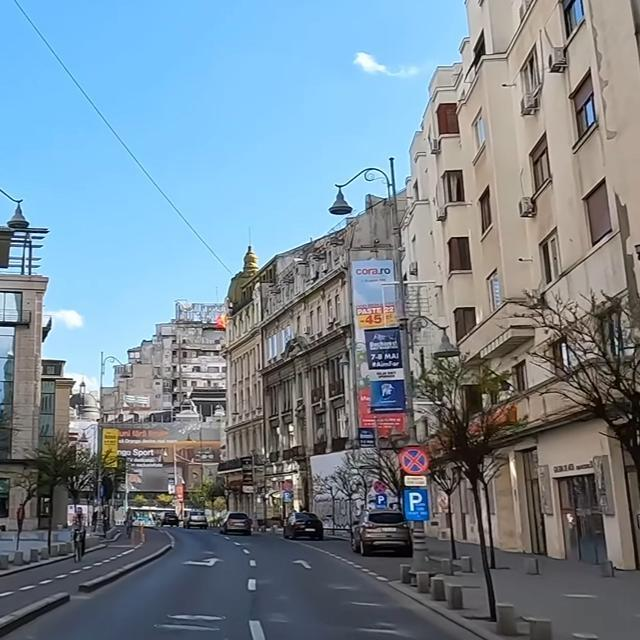forb_waiting: (398, 445, 428, 475)
